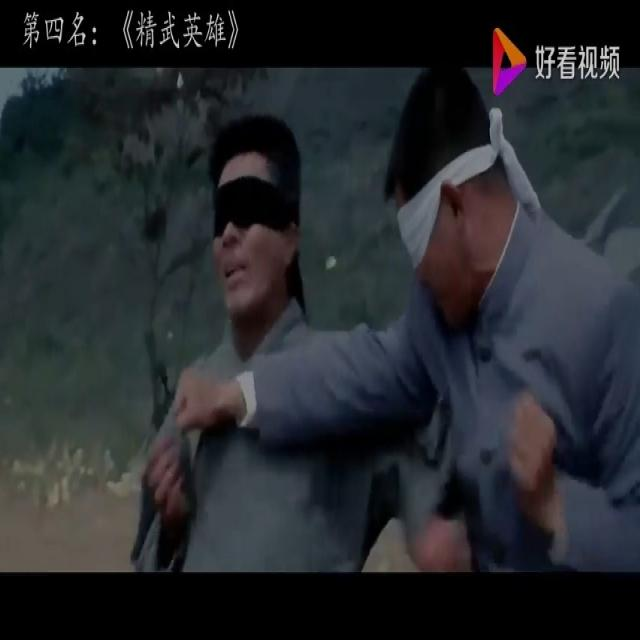fight: (134, 60, 639, 572)
